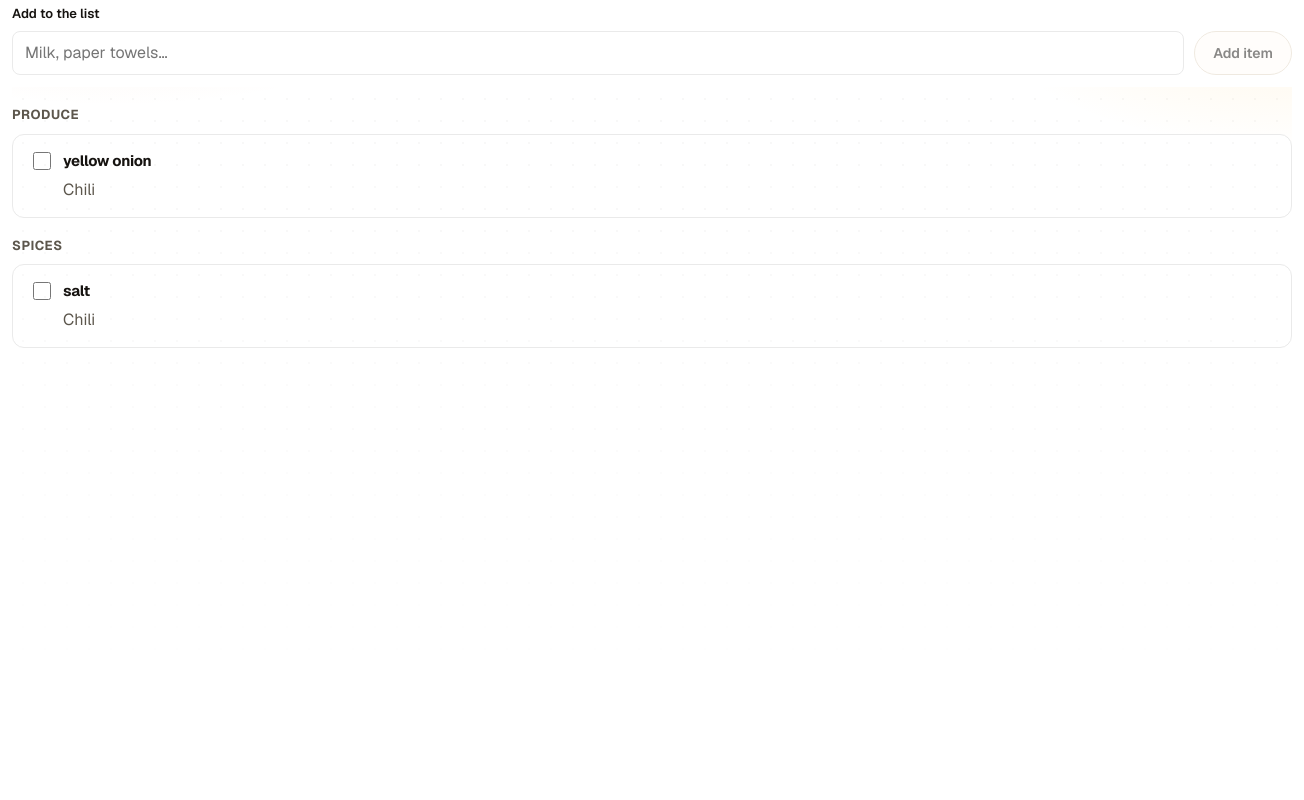
Test: ShoppingList › groups by aisle and saves a jot-down item for the plan week
The image size is (1304, 800).
Expected: the headings read "Produce", "Spices", in this order, [12, 106, 79, 123]; [12, 237, 63, 254]
Type "paper towels" into the field with placeholder "Milk, paper towels…" at [598, 53], box [12, 31, 1184, 75]
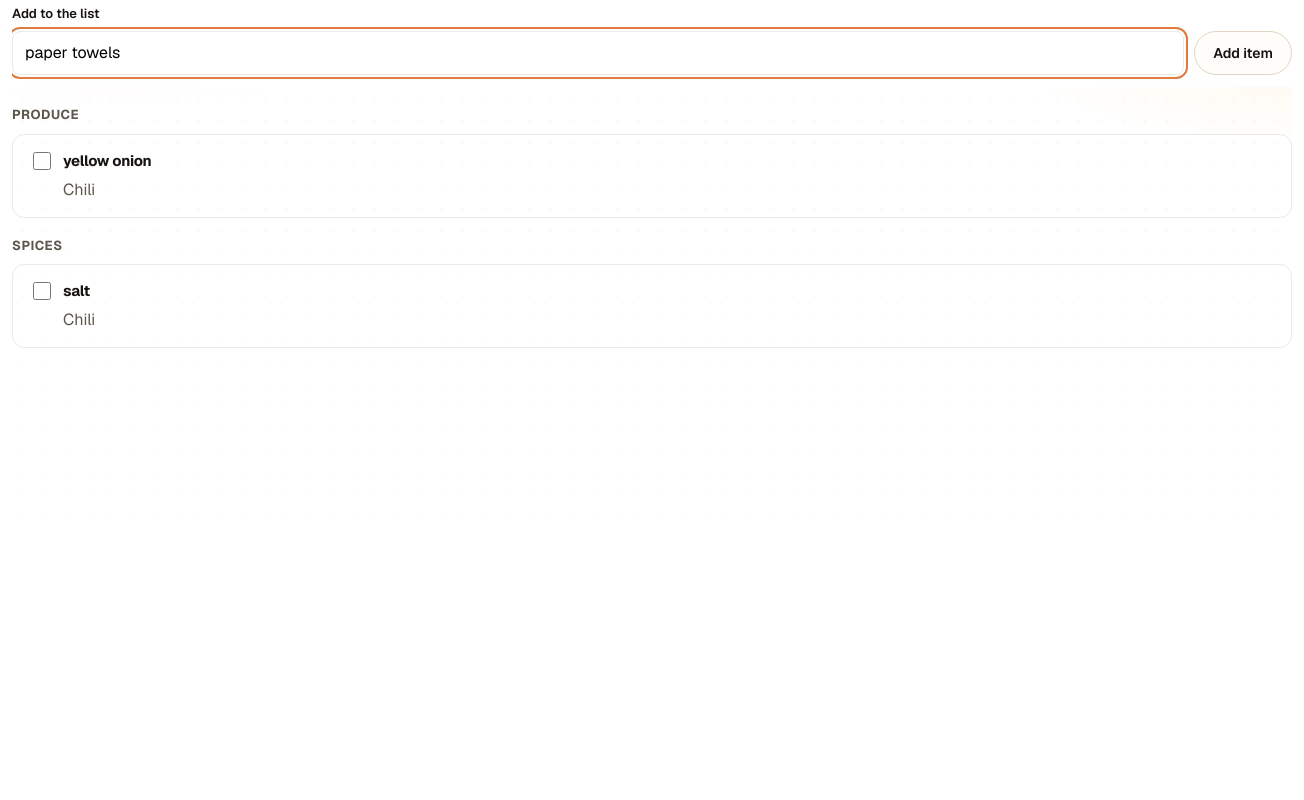
Click the button "Add item" at [1243, 53], box [1194, 31, 1292, 75]
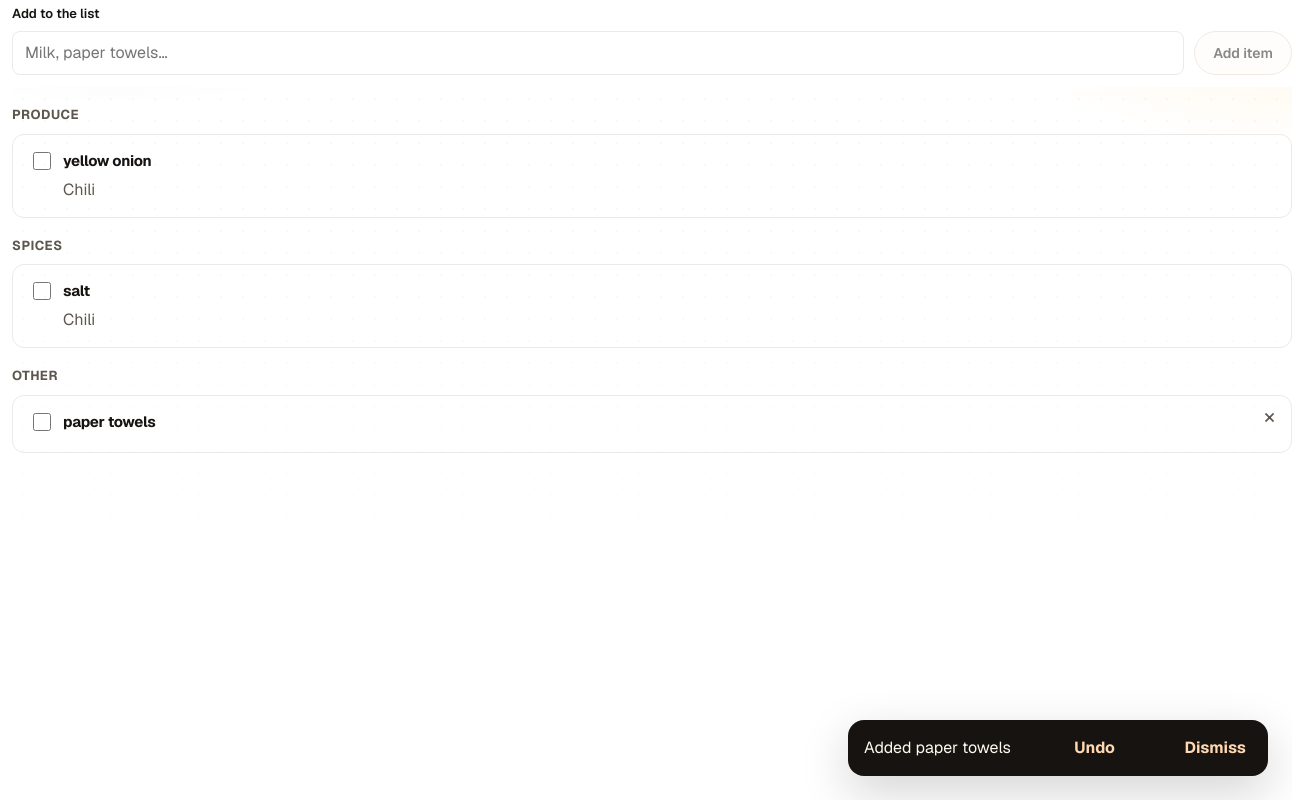
Now the heading "Other" is shown, box [12, 367, 58, 384]
Now the text "paper towels" is shown, box [63, 412, 156, 431]
Now the message shows "Added paper towels", box [864, 737, 1011, 758]
